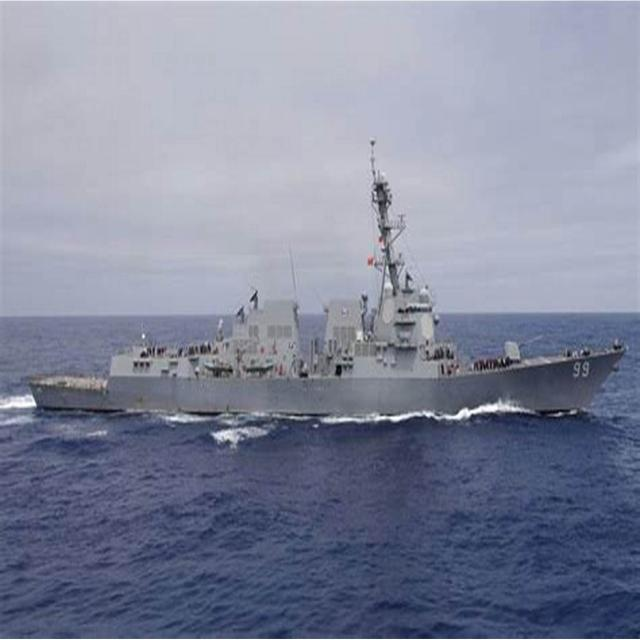navalvessels: (25, 150, 640, 466)
